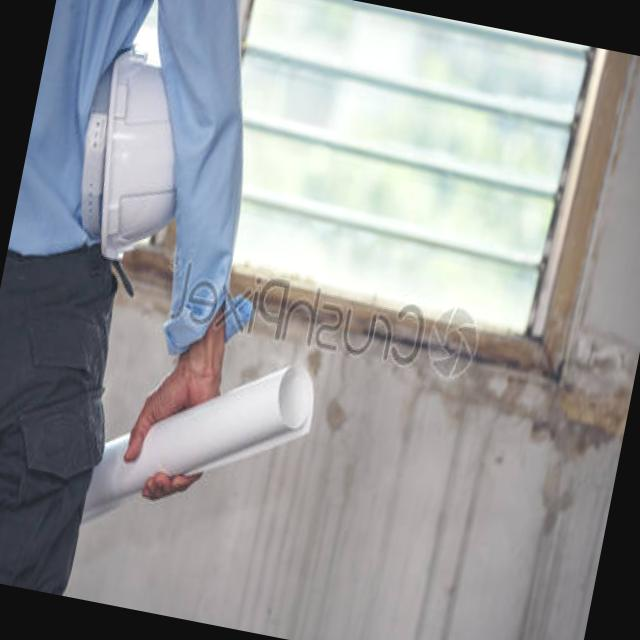helmet: (66, 38, 198, 270)
